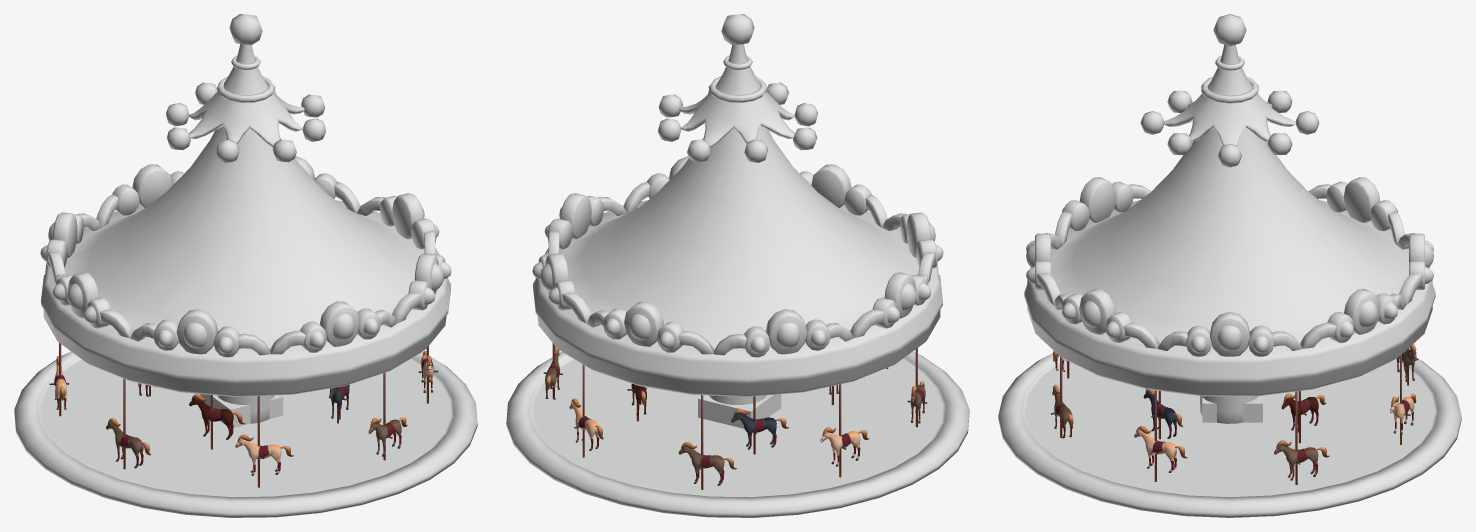
File: xuanzhuanmuma.fbx
The picture shows the model from 3 angles, left to right: view 1: azimuth 30°, elevation 25°; view 2: azimuth 150°, elevation 25°; view 3: azimuth 270°, elevation 25°; orthographic projection.
Visible parts, largest first — view 1: Cube, 1253; view 2: Cube, 1253; view 3: Cube, 1253.
Boxes of the visible parts, box(x1,y1,x2,y2) form: Cube: box(14, 14, 477, 517); 1253: box(49, 343, 438, 487); Cube: box(506, 14, 969, 517); 1253: box(543, 343, 927, 489); Cube: box(998, 14, 1461, 517); 1253: box(1051, 344, 1418, 484).
Size of the model in its own units: 1525 by 1571 by 1525.
